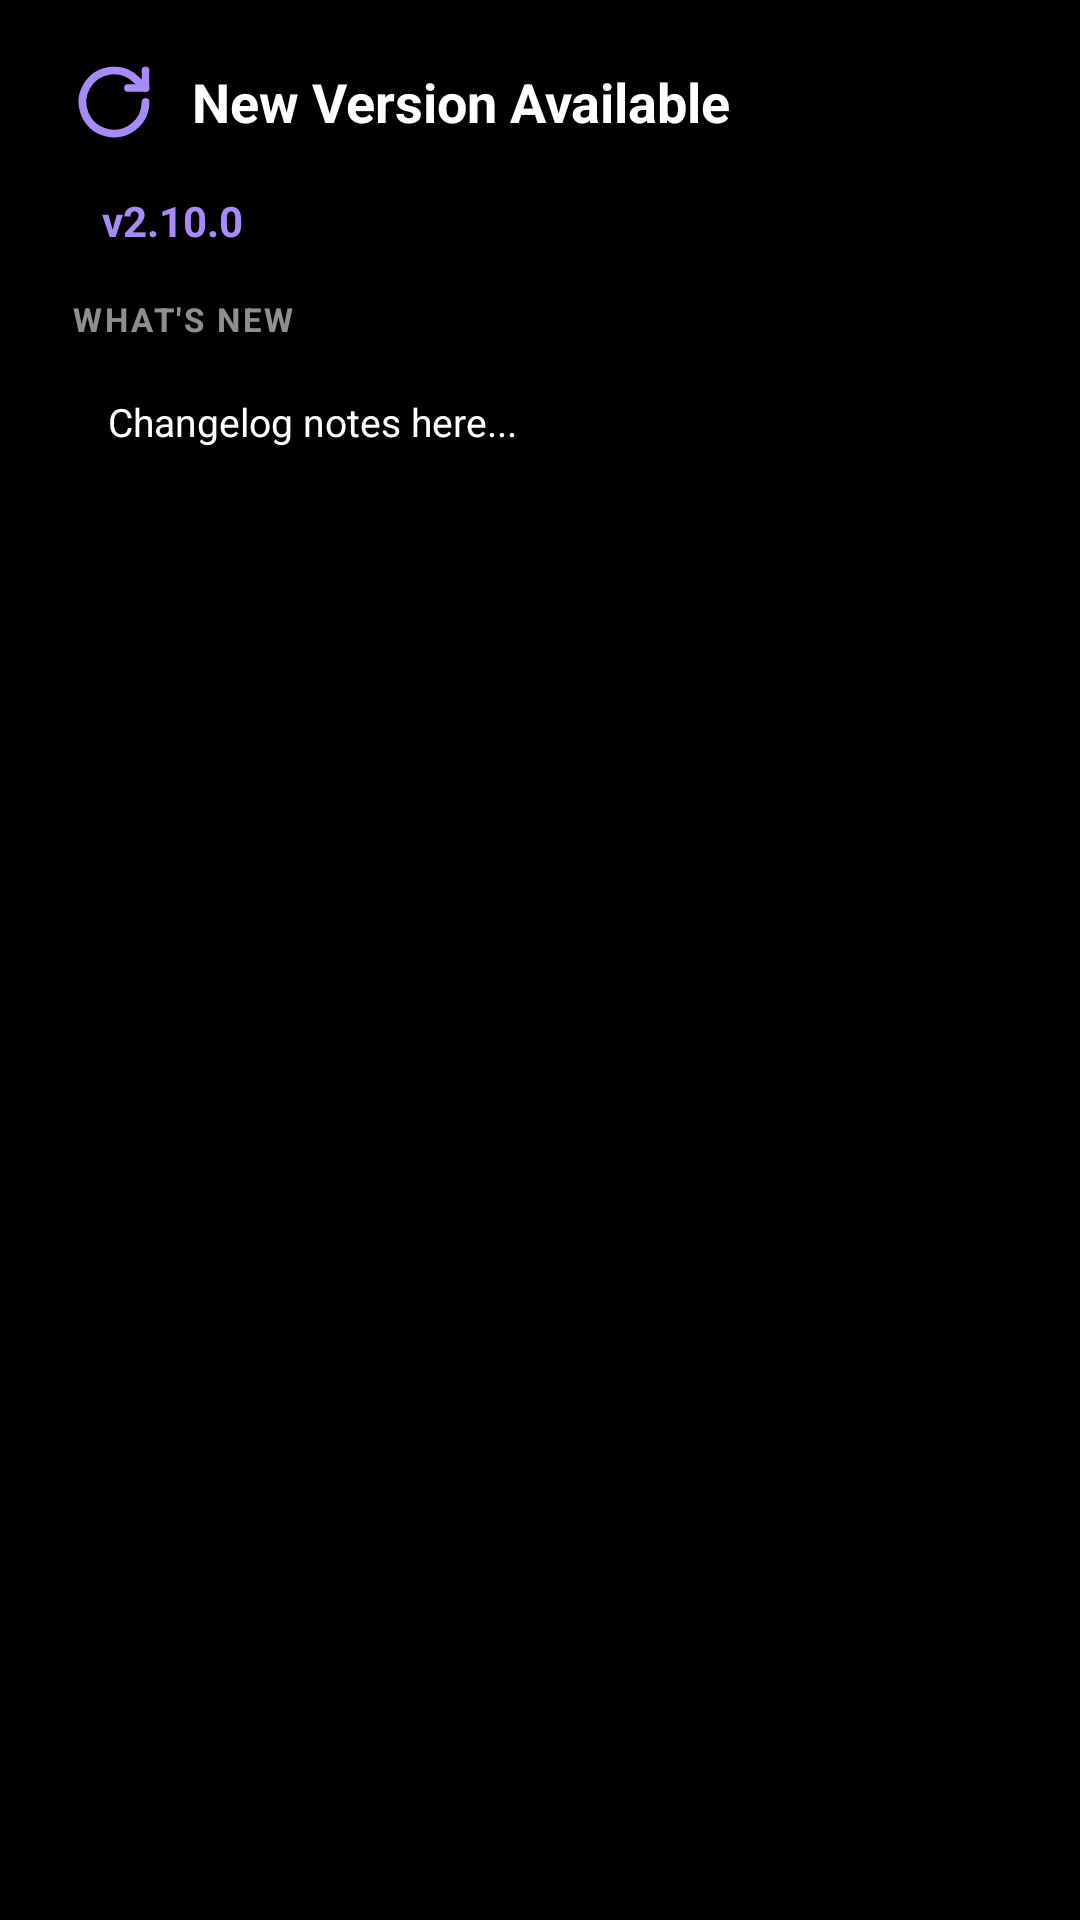

Icons on this 1080x1920 Android screen, each with its box as (x1, y1, x2, y2):
refresh: (78, 66, 150, 138)
